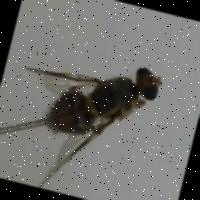Oriental-fruit-fly: (0, 18, 179, 200)
